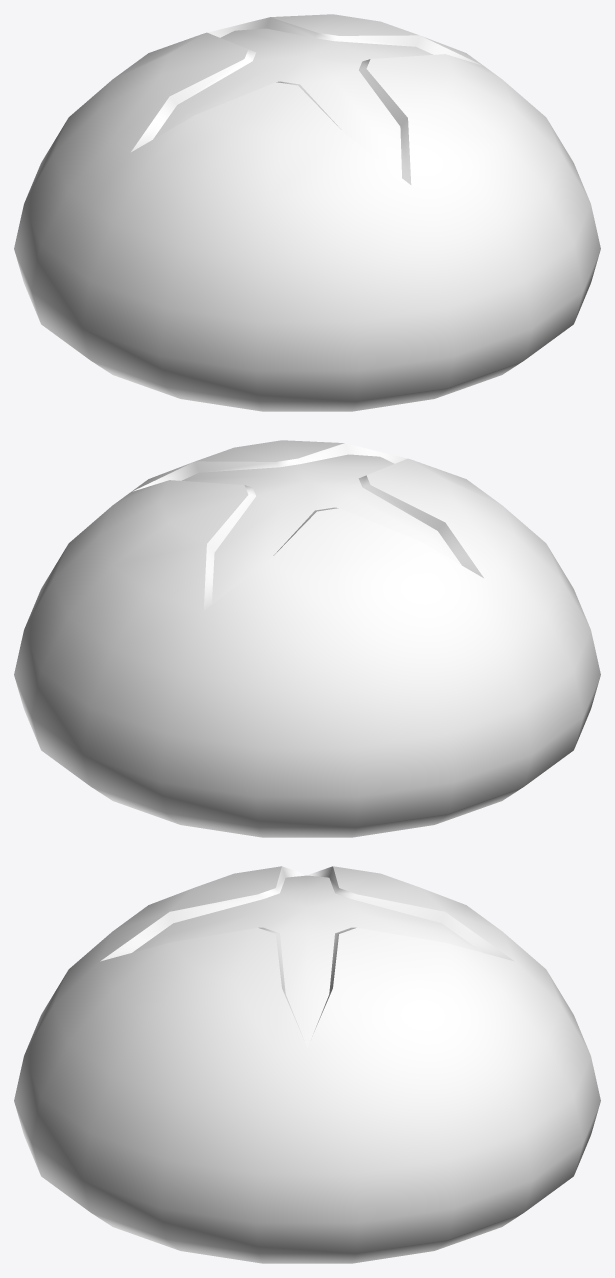
The model's file is Round_bread_02.fbx.
3 renders of one model, top to bottom at view 1: azimuth 30°, elevation 25°; view 2: azimuth 150°, elevation 25°; view 3: azimuth 270°, elevation 25°, orthographic.
Visible parts, largest first — view 1: Round_bread_02; view 2: Round_bread_02; view 3: Round_bread_02.
Part boxes in pixels (x1,y1,x2,y2): Round_bread_02: (14,14,600,411); Round_bread_02: (14,440,600,837); Round_bread_02: (14,866,600,1263).
Bounding box in the file's own units: 197 × 200 × 99.53.
